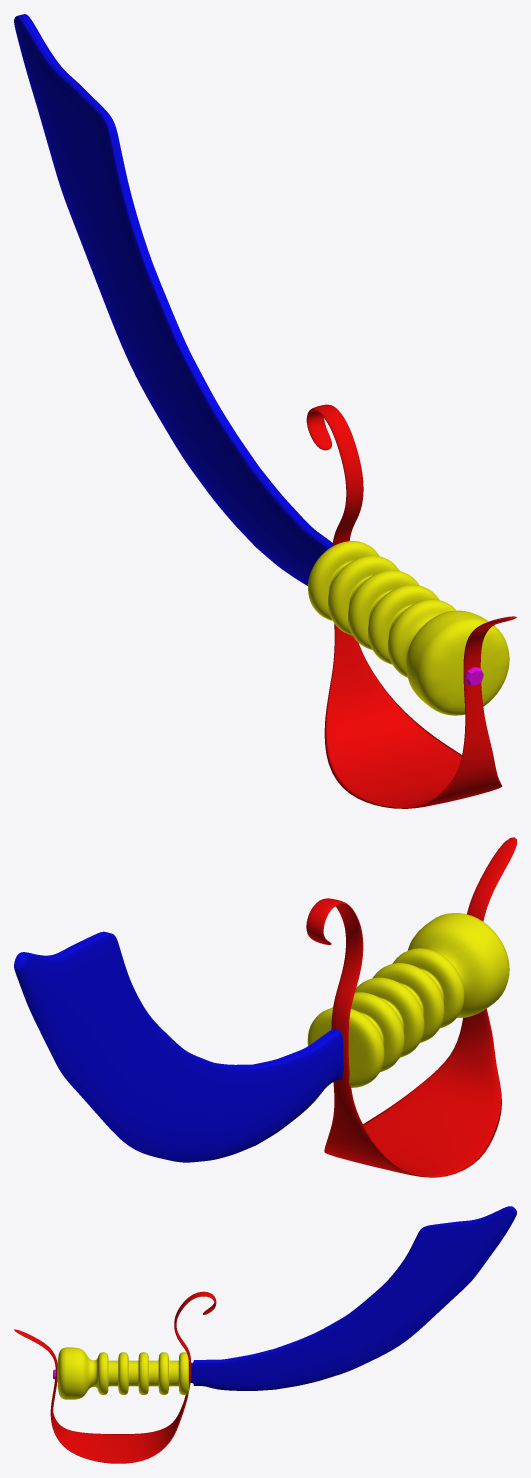
File: Sword.fbx
3 renders of one model, top to bottom at view 1: azimuth 30°, elevation 25°; view 2: azimuth 150°, elevation 25°; view 3: azimuth 270°, elevation 25°, orthographic. The views are drawn at different scales.
Parts seen in each view (by area): view 1: pCube2, pCube1, pCylinder1; view 2: pCube2, pCube1, pCylinder1; view 3: pCube2, pCylinder1, pCube1.
Boxes of the visible parts, <box> form: pCube2: <box>14,14,332,585</box>; pCube1: <box>306,404,516,808</box>; pCylinder1: <box>308,541,509,715</box>; pCube2: <box>14,931,343,1162</box>; pCube1: <box>306,837,516,1177</box>; pCylinder1: <box>307,913,509,1087</box>; pCube2: <box>190,1206,516,1390</box>; pCylinder1: <box>57,1347,188,1399</box>; pCube1: <box>14,1291,216,1463</box>.
Size of the model in its own units: 5.35 by 19.98 by 37.44.
